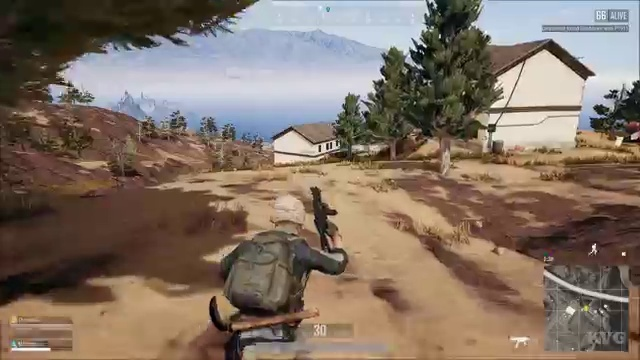Player: (212, 183, 377, 316)
